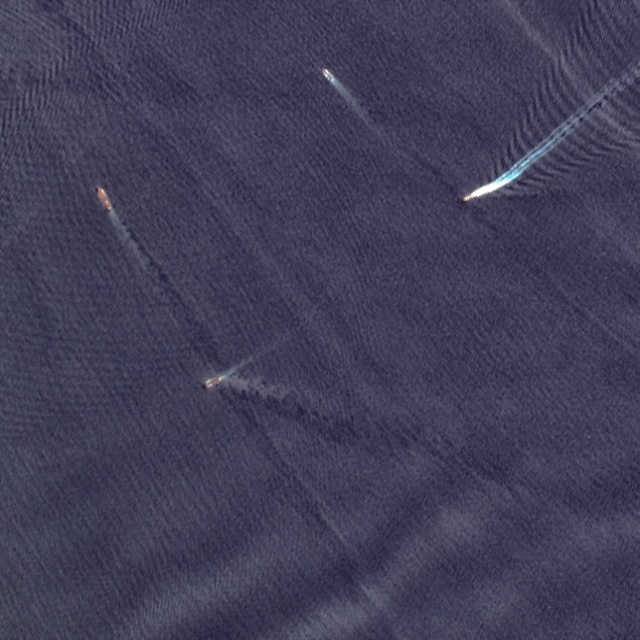wake: (445, 85, 617, 231)
